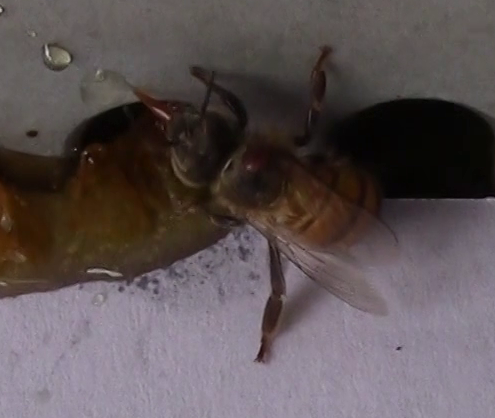Varroa destructor: (237, 143, 274, 175)
